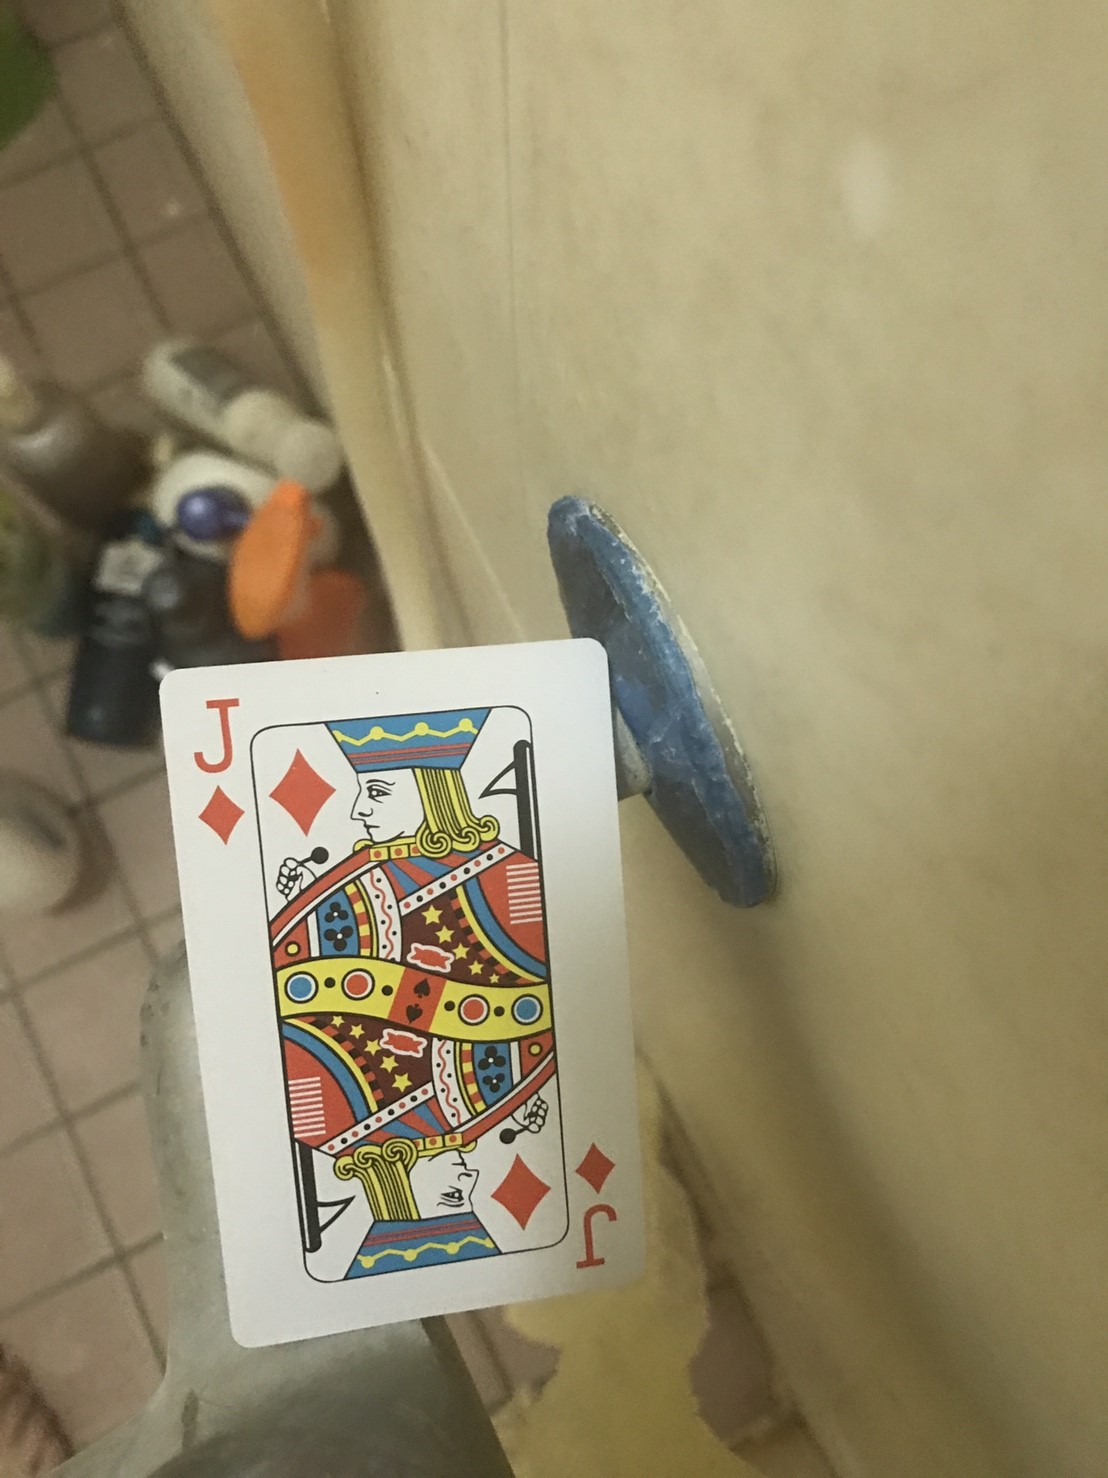diamonds: (267, 747, 336, 843), (488, 1152, 555, 1235), (193, 780, 251, 847), (575, 1134, 619, 1195)
